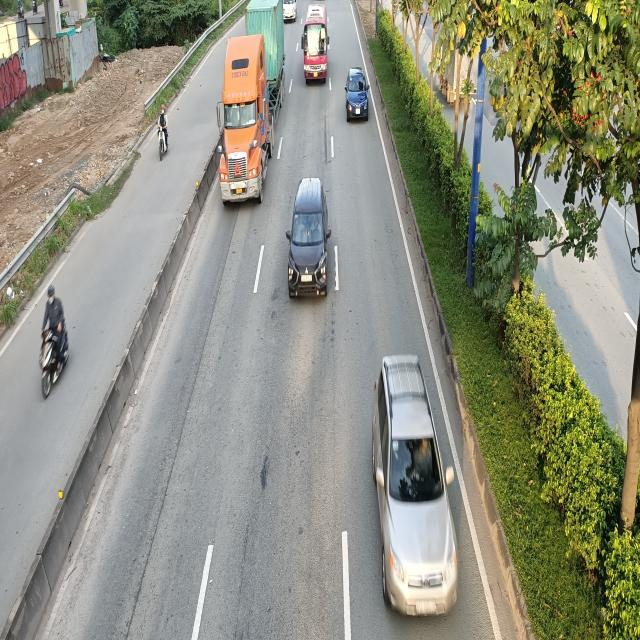car: (371, 357, 460, 618), (285, 176, 329, 296), (344, 68, 370, 124)
coach: (301, 5, 328, 85)
container: (213, 0, 281, 203)
